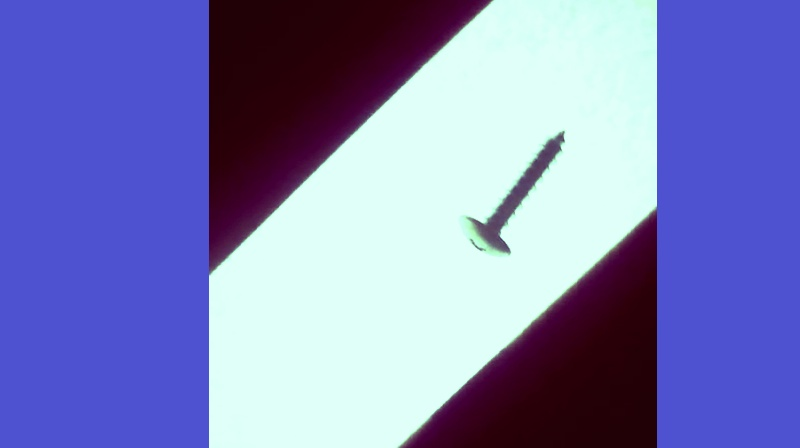S003: (454, 123, 567, 261)
